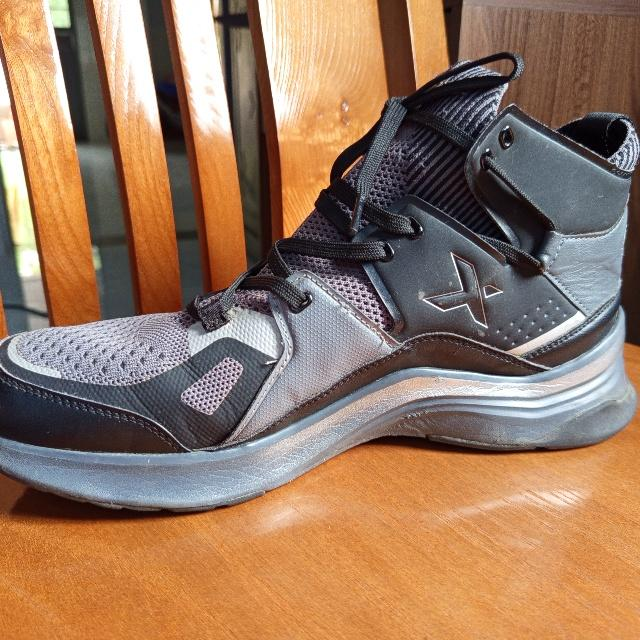broken: (337, 298, 353, 316)
